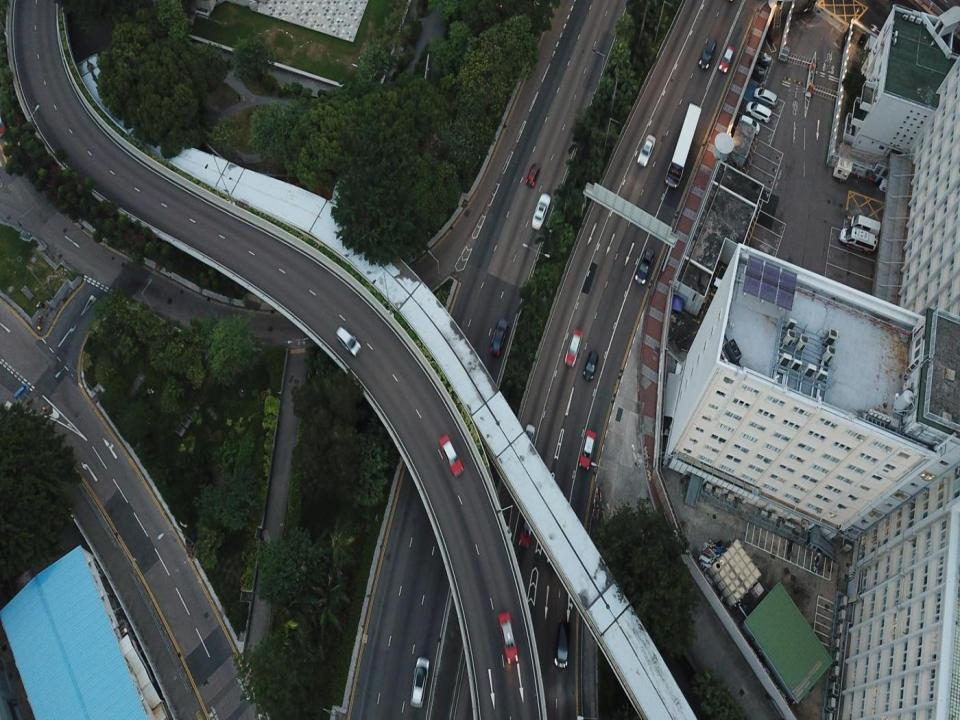bus: (665, 103, 702, 188)
car: (495, 611, 520, 666), (440, 437, 464, 477), (487, 318, 509, 358), (518, 498, 535, 549), (633, 248, 655, 286), (578, 430, 598, 470), (530, 193, 551, 230), (336, 327, 361, 356), (581, 350, 600, 384), (563, 330, 581, 364), (637, 134, 656, 166), (698, 38, 717, 70), (718, 45, 736, 73), (738, 114, 760, 134), (522, 425, 535, 458), (526, 164, 540, 188)
van: (410, 657, 429, 706), (838, 228, 878, 250), (554, 619, 569, 668), (851, 215, 880, 239), (745, 100, 773, 124), (753, 87, 779, 107)
